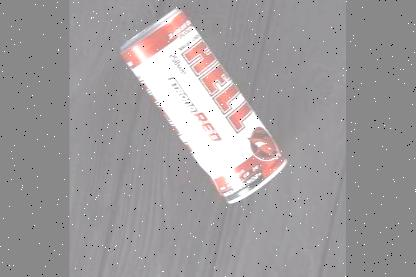Can: (116, 5, 289, 206)
